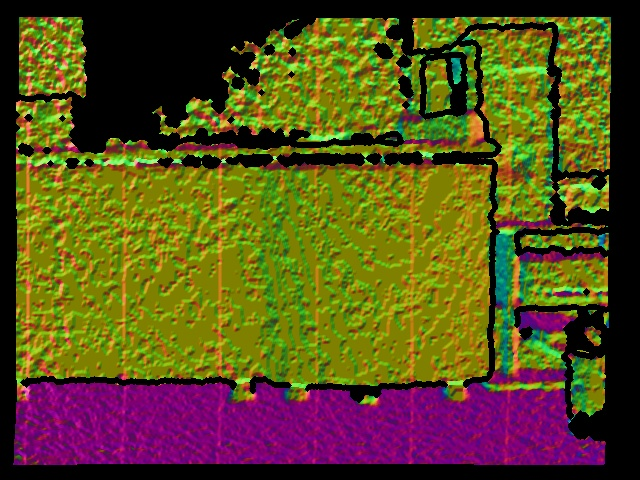station: (396, 41, 487, 146)
